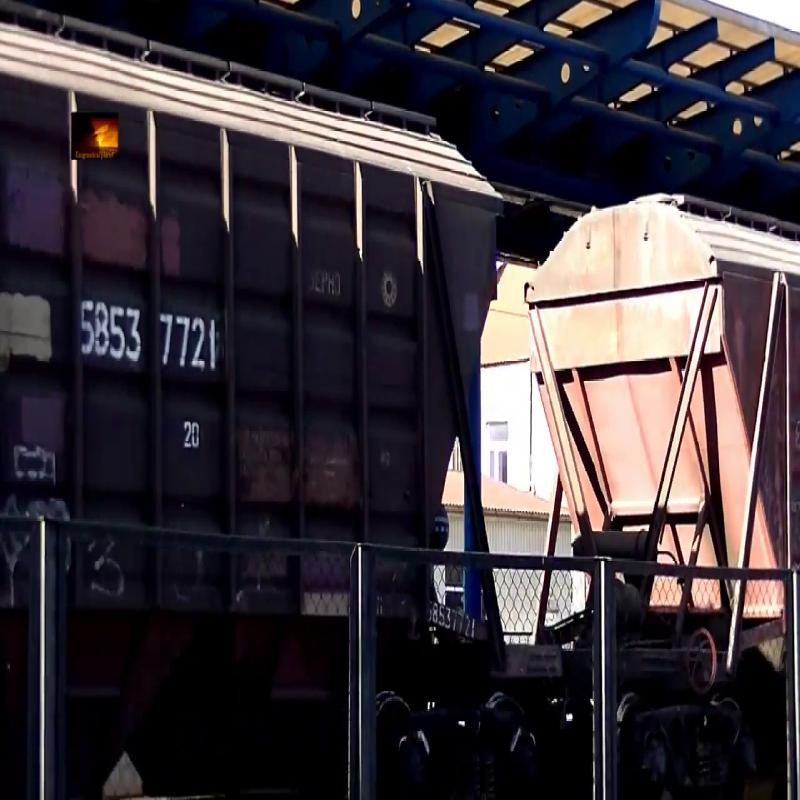train: (2, 24, 528, 772), (553, 21, 800, 770)
